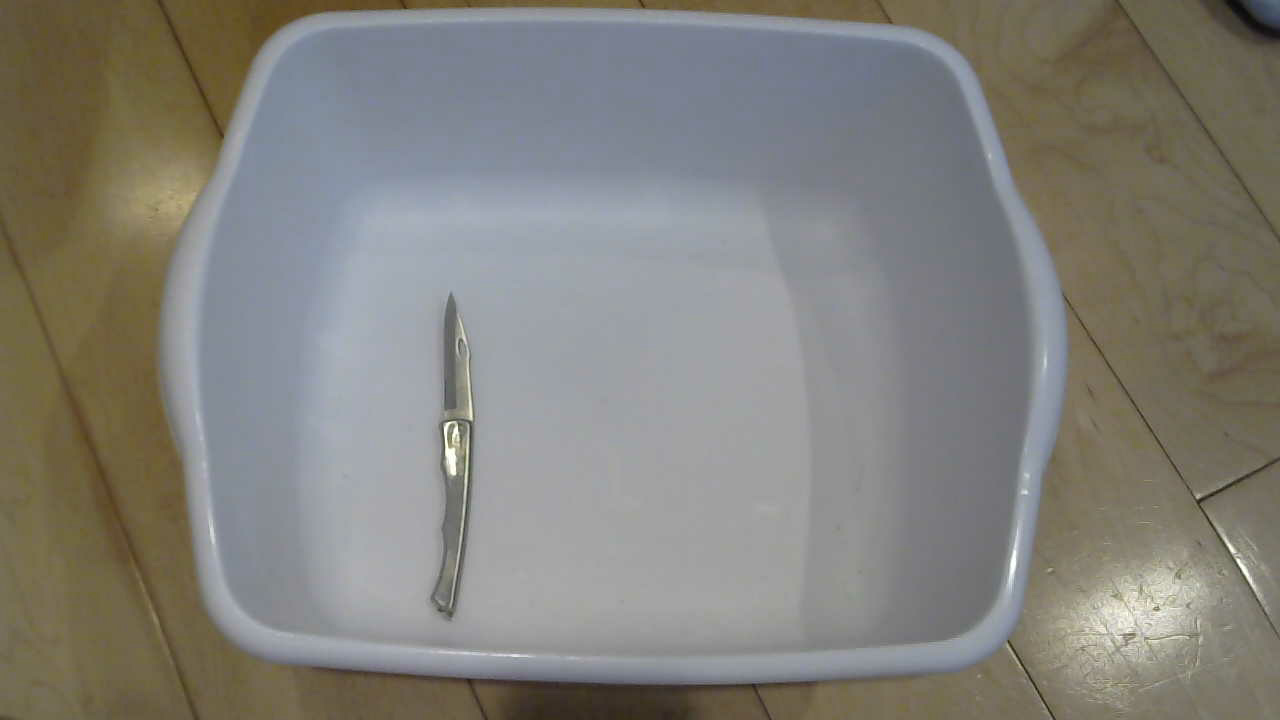knife: (386, 291, 505, 623)
